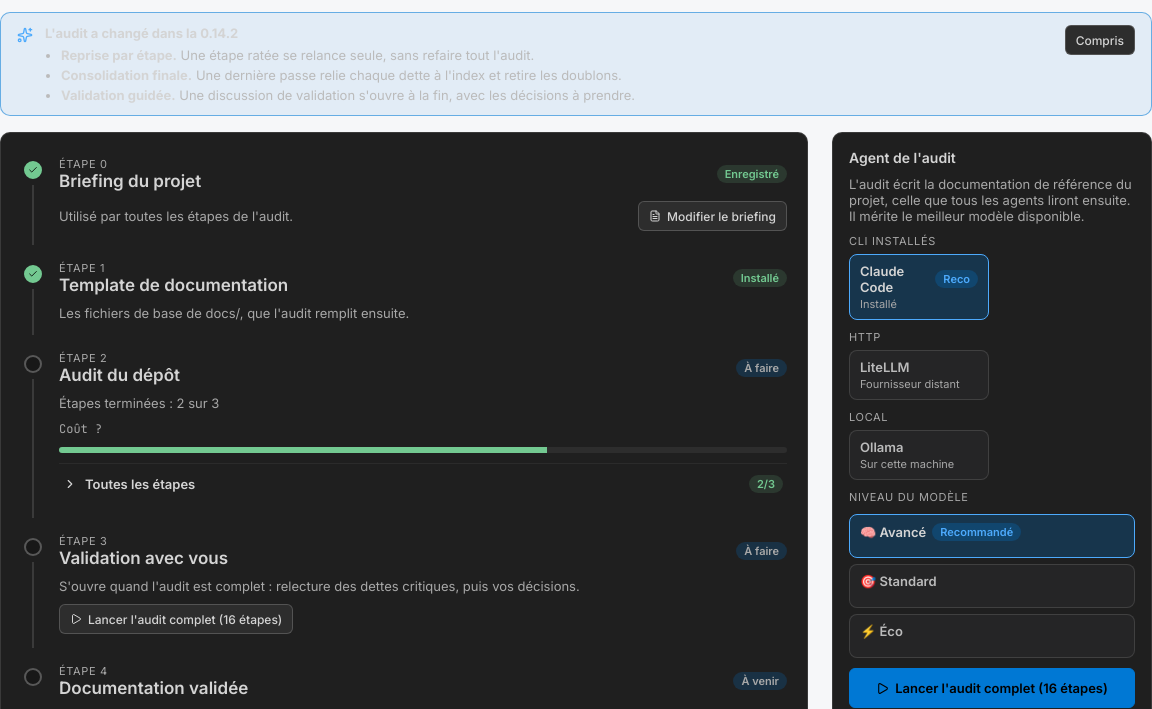
Test: AuditTimeline › counts a finished partial run, newest result per step (KT-994)
This screenshot has width=1152, height=709.
Click the button with class "audit-tl-group-head" at (140, 484), box 59,464 -> 787,504
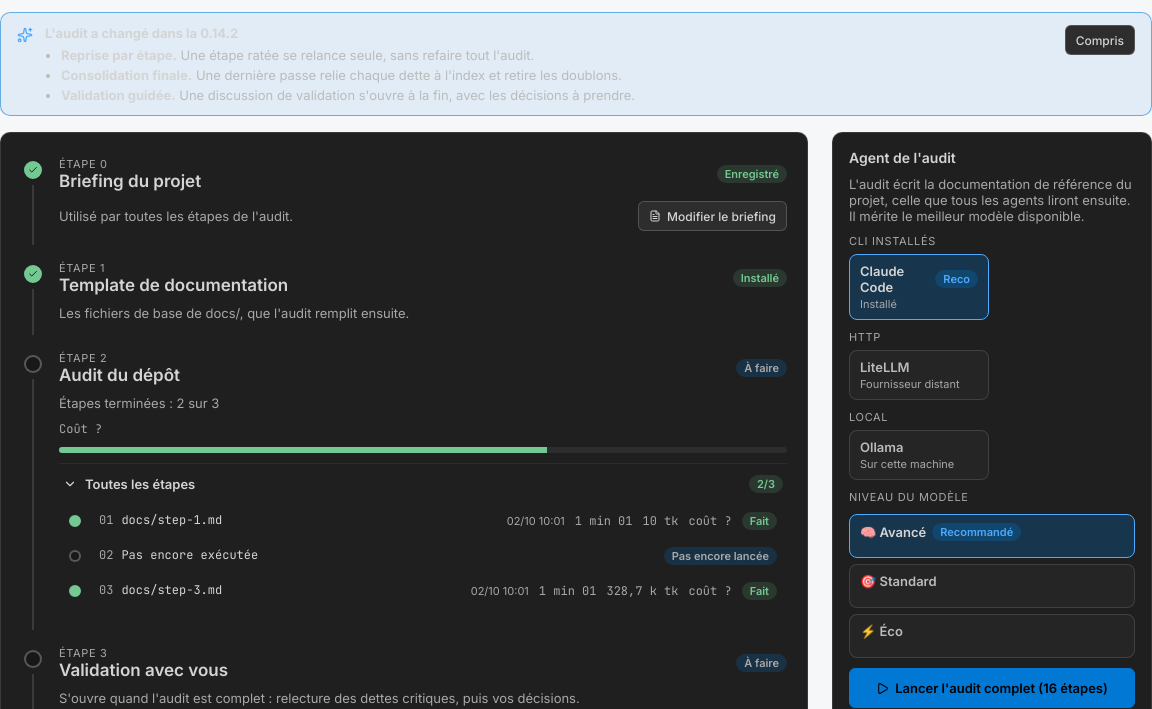
expect the text with test id "audit-timeline-step-tokens-3" reads "328,7 k tk": met, box 606,583 -> 678,599
